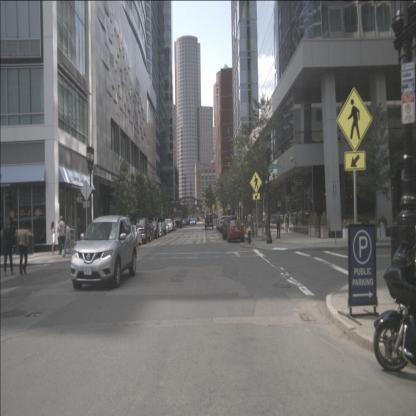human-pedestrian-adult: (3, 219, 15, 276), (17, 221, 29, 275), (62, 222, 74, 258), (58, 215, 66, 255), (57, 219, 63, 254), (50, 222, 56, 255), (264, 214, 271, 239), (275, 210, 281, 238), (262, 210, 267, 228), (248, 211, 252, 230), (207, 218, 210, 230)
vehicle-bus-rigid: (173, 210, 183, 228)
vehicle-car: (71, 215, 137, 290), (130, 217, 152, 244), (222, 215, 238, 240), (227, 220, 245, 242), (124, 224, 141, 247), (141, 222, 155, 240), (148, 220, 160, 238), (154, 222, 164, 237), (219, 216, 228, 232), (163, 219, 173, 232), (158, 222, 166, 234), (161, 221, 169, 233), (216, 218, 223, 230), (169, 221, 177, 230), (190, 218, 195, 226), (181, 218, 186, 226)
vehicle-motorcycle: (374, 240, 416, 373)
vehicle-truck: (204, 214, 214, 230)
